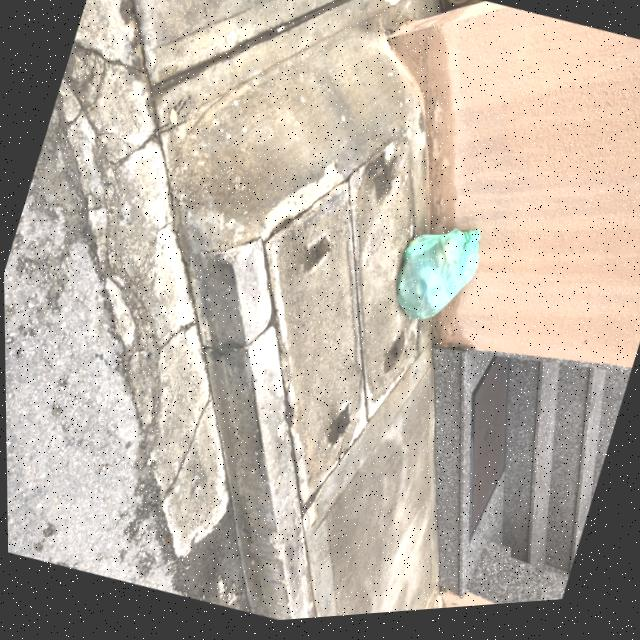Other: (384, 217, 489, 343)
